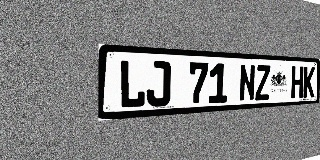1: (209, 63, 227, 103)
7: (188, 62, 208, 105)
H: (291, 66, 304, 98)
J: (146, 60, 171, 107)
K: (303, 66, 315, 98)
L: (119, 59, 146, 109)
N: (239, 64, 255, 102)
Z: (255, 65, 270, 101)
